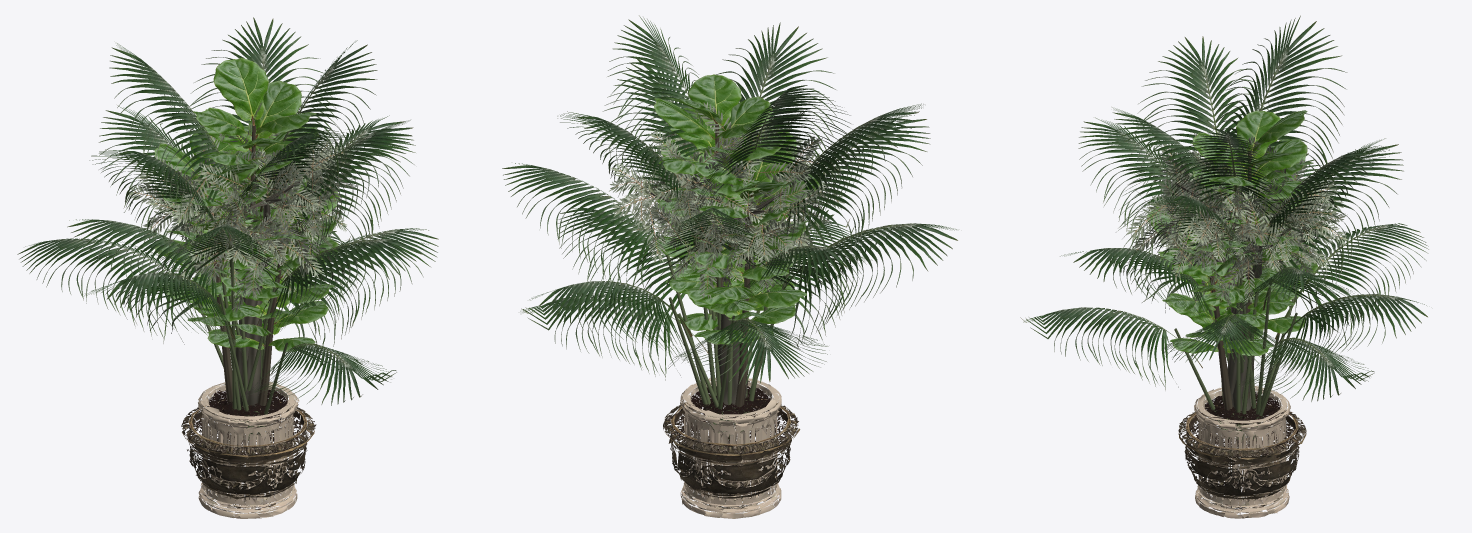
Rendered from plantes.glb.
The picture shows the model from 3 angles, left to right: view 1: azimuth 30°, elevation 25°; view 2: azimuth 150°, elevation 25°; view 3: azimuth 270°, elevation 25°; orthographic projection. The views are drawn at different scales.
Parts seen in each view (by area): view 1: Kentia-frondes, Lyrata-feuilles, Olivier-rameaux, Lyrata-cuve, Kentia-vasque, Kentia-petioles, Olivier-bois, Lyrata-tiges; view 2: Kentia-frondes, Lyrata-feuilles, Olivier-rameaux, Lyrata-cuve, Kentia-vasque, Kentia-petioles, Olivier-bois, Lyrata-tiges; view 3: Kentia-frondes, Lyrata-feuilles, Olivier-rameaux, Lyrata-cuve, Kentia-vasque, Kentia-petioles, Olivier-bois, Lyrata-tiges.
Part boxes in pixels (box(x1,y1,x2,y2)): Kentia-frondes: box(17, 17, 438, 405); Lyrata-feuilles: box(154, 58, 339, 351); Olivier-rameaux: box(128, 101, 360, 313); Lyrata-cuve: box(198, 381, 299, 518); Kentia-vasque: box(181, 399, 316, 509); Kentia-petioles: box(189, 175, 287, 441); Olivier-bois: box(168, 181, 299, 411); Lyrata-tiges: box(207, 125, 282, 405); Kentia-frondes: box(502, 15, 957, 384); Lyrata-feuilles: box(654, 74, 819, 344); Olivier-rameaux: box(609, 97, 844, 298); Lyrata-cuve: box(680, 378, 781, 518); Kentia-vasque: box(663, 396, 800, 510); Kentia-petioles: box(661, 195, 790, 439); Olivier-bois: box(650, 191, 783, 407); Lyrata-tiges: box(715, 123, 752, 407); Kentia-frondes: box(1020, 15, 1428, 401); Lyrata-feuilles: box(1147, 110, 1318, 355); Olivier-rameaux: box(1126, 130, 1348, 308); Lyrata-cuve: box(1194, 386, 1290, 518); Kentia-vasque: box(1178, 403, 1306, 510); Kentia-petioles: box(1174, 197, 1297, 442); Olivier-bois: box(1166, 178, 1291, 413); Lyrata-tiges: box(1208, 152, 1256, 413).
Size of the model in its own units: 2.99 by 3.28 by 3.1.
8 materials, 7 textured.
